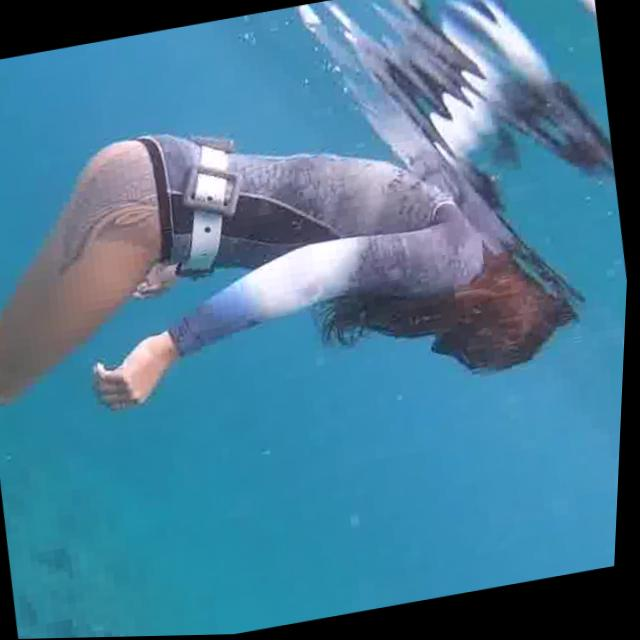human: (0, 43, 587, 487)
